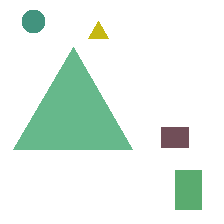circle: (22, 10, 44, 32)
rectangle: (175, 170, 201, 209), (161, 127, 188, 147)
triangle: (13, 47, 132, 149), (88, 21, 108, 38)
